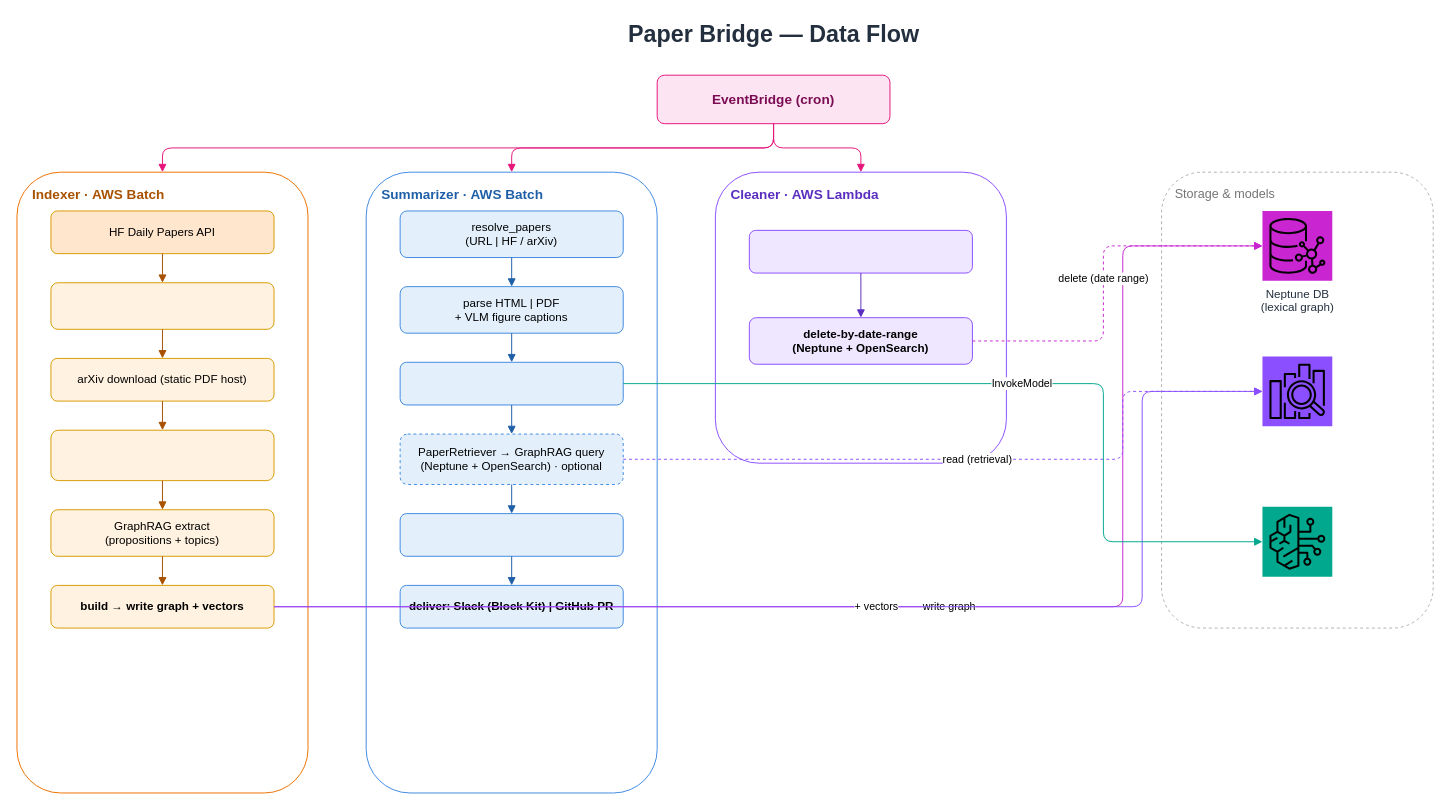
Some shapes in this 1450 by 810 pixel diagram are drawn without their labels. The shapes that lost their labels are listed below. From the top down, each one's centre as x and y in pixels, then its label:
At point (860, 251): "calculate_date_range".
At point (162, 305): "PaperScorer.select (per-day + cross-day dedup)".
At point (511, 383): "PaperSummarizer (Sonnet 4.6)".
At point (1297, 391): "OpenSearch Serverless (vectors)".
At point (162, 455): "parse (LlamaParse | Unstructured) + main-content extraction (Haiku 4.5)".
At point (511, 534): "render (HTML → PNG)".
At point (1297, 541): "Amazon Bedrock (Claude / Cohere)".
